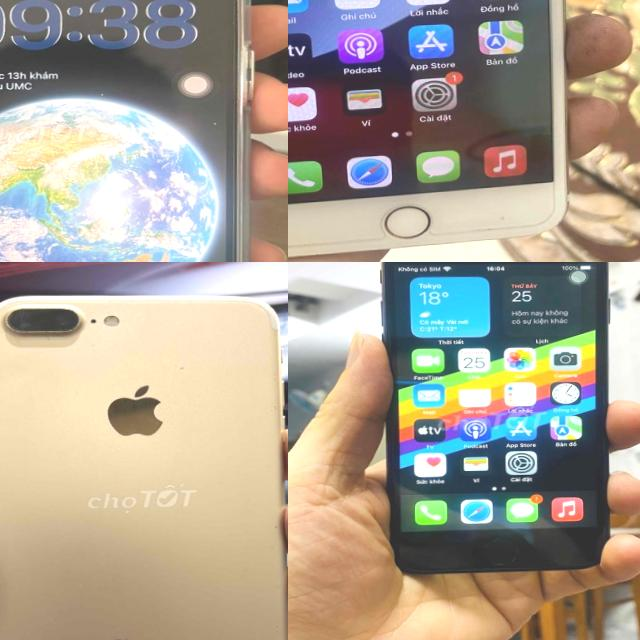gen_12_13: (0, 0, 267, 262)
gen_7_8: (0, 284, 288, 640), (366, 262, 626, 583), (288, 0, 585, 260)
scratch: (0, 319, 80, 351), (265, 362, 286, 428), (159, 354, 198, 376), (481, 208, 515, 228), (262, 519, 287, 540)
